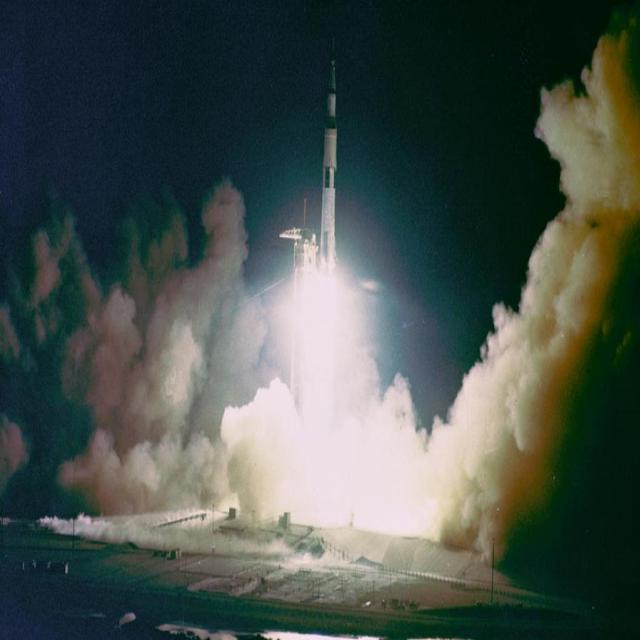missile: (307, 50, 364, 316)
